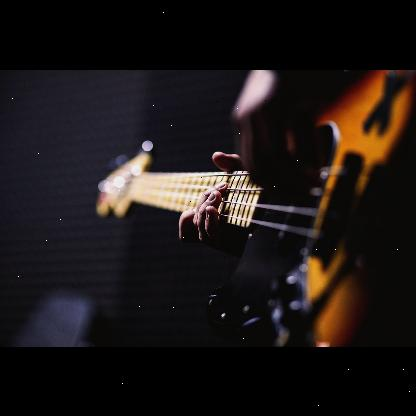bass: (93, 72, 415, 346)
